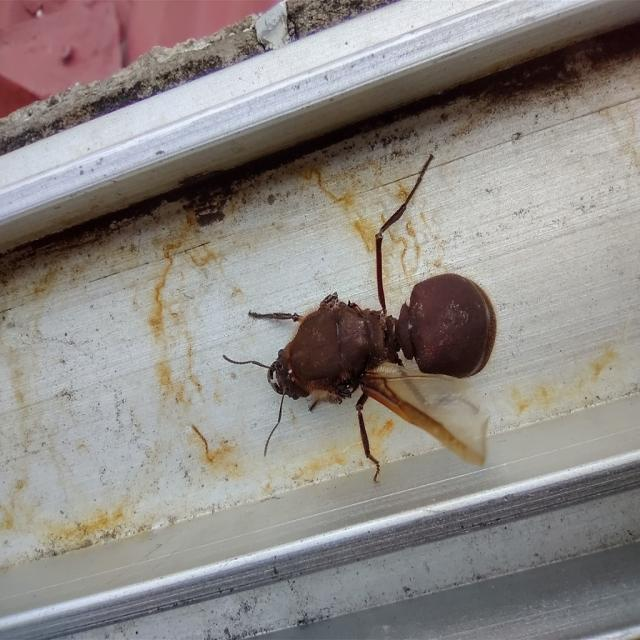Alive-Female-Alate: (223, 153, 498, 484)
